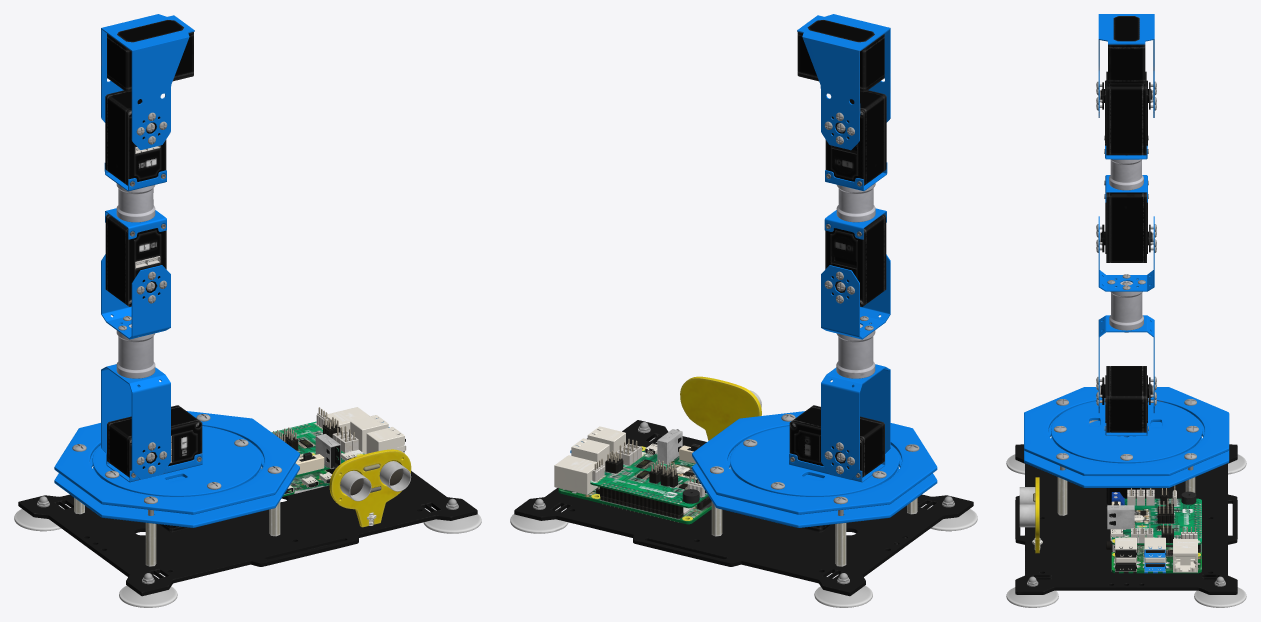
The model's file is RaspberryPIRobotArm.fbx.
3 views of the same model, side by side, from view 1: azimuth 30°, elevation 25°; view 2: azimuth 150°, elevation 25°; view 3: azimuth 270°, elevation 25° (orthographic). The views are drawn at different scales.
Parts seen in each view (by area): view 1: PIArmBase, MetalBracket1, ServoMotor2, MetalBracket2, Base, ServoMotor1, UpperShield, LowerShield; view 2: PIArmBase, MetalBracket1, ServoMotor2, MetalBracket2, UpperShield, Base, LowerShield, ServoMotor1; view 3: PIArmBase, ServoMotor2, Base, UpperShield, MetalBracket2, MetalBracket1, ServoMotor1, LowerShield.
Part boxes in pixels (x1,y1,x2,y2): PIArmBase: (14,411,481,607); MetalBracket1: (101,254,170,479); ServoMotor2: (104,90,166,306); MetalBracket2: (101,14,194,149); Base: (92,426,261,496); ServoMotor1: (106,405,202,482); UpperShield: (261,407,364,477); LowerShield: (283,407,406,496); PIArmBase: (510,376,977,607); MetalBracket1: (821,254,890,479); ServoMotor2: (824,90,887,306); MetalBracket2: (797,14,890,150); UpperShield: (590,429,730,515); Base: (730,426,899,496); LowerShield: (554,426,711,524); ServoMotor1: (789,405,885,482); PIArmBase: (1006,387,1246,607); ServoMotor2: (1100,71,1152,262); Base: (1051,400,1202,463); UpperShield: (1106,485,1201,549); MetalBracket2: (1096,14,1156,117); MetalBracket1: (1096,216,1156,413); ServoMotor1: (1101,366,1152,436); LowerShield: (1106,529,1201,573).
Bounding box in the file's own units: 0.00224 × 0.00309 × 0.00146.
2 materials, 2 textured.
